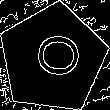O_W: (25, 34, 81, 83)
